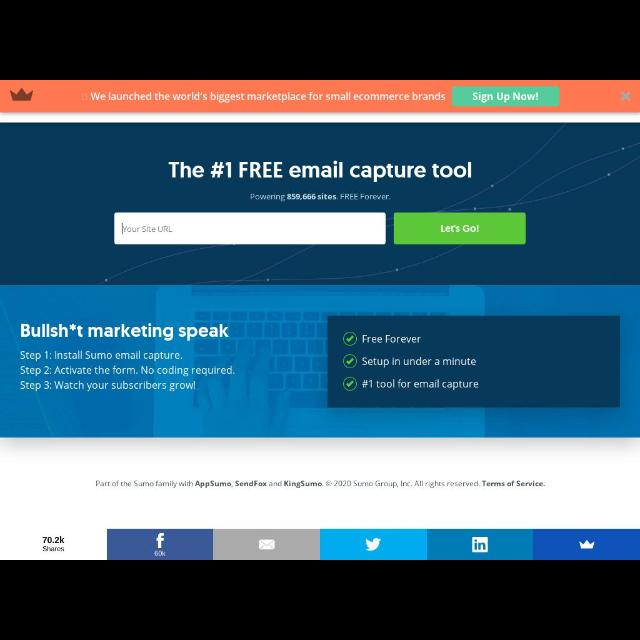backgroundimage: (1, 123, 639, 437)
button: (621, 91, 631, 103)
icon: (10, 88, 32, 102), (342, 354, 358, 368), (342, 377, 358, 391), (343, 332, 357, 346), (622, 92, 630, 100)
iframe: (1, 80, 640, 114)
image: (319, 529, 426, 559), (107, 529, 213, 559), (214, 529, 320, 559), (427, 529, 533, 559), (534, 529, 640, 559)
input: (114, 212, 386, 245)
panel: (327, 316, 621, 408)
text: (19, 351, 237, 394), (166, 159, 474, 183), (91, 90, 447, 104), (95, 480, 548, 490), (21, 322, 230, 342), (362, 378, 478, 390), (362, 356, 476, 368), (250, 194, 392, 202), (473, 91, 539, 103), (362, 334, 421, 344), (122, 224, 174, 233), (440, 224, 480, 233), (42, 536, 64, 552)
textbutton: (394, 212, 526, 245), (452, 85, 558, 106)
